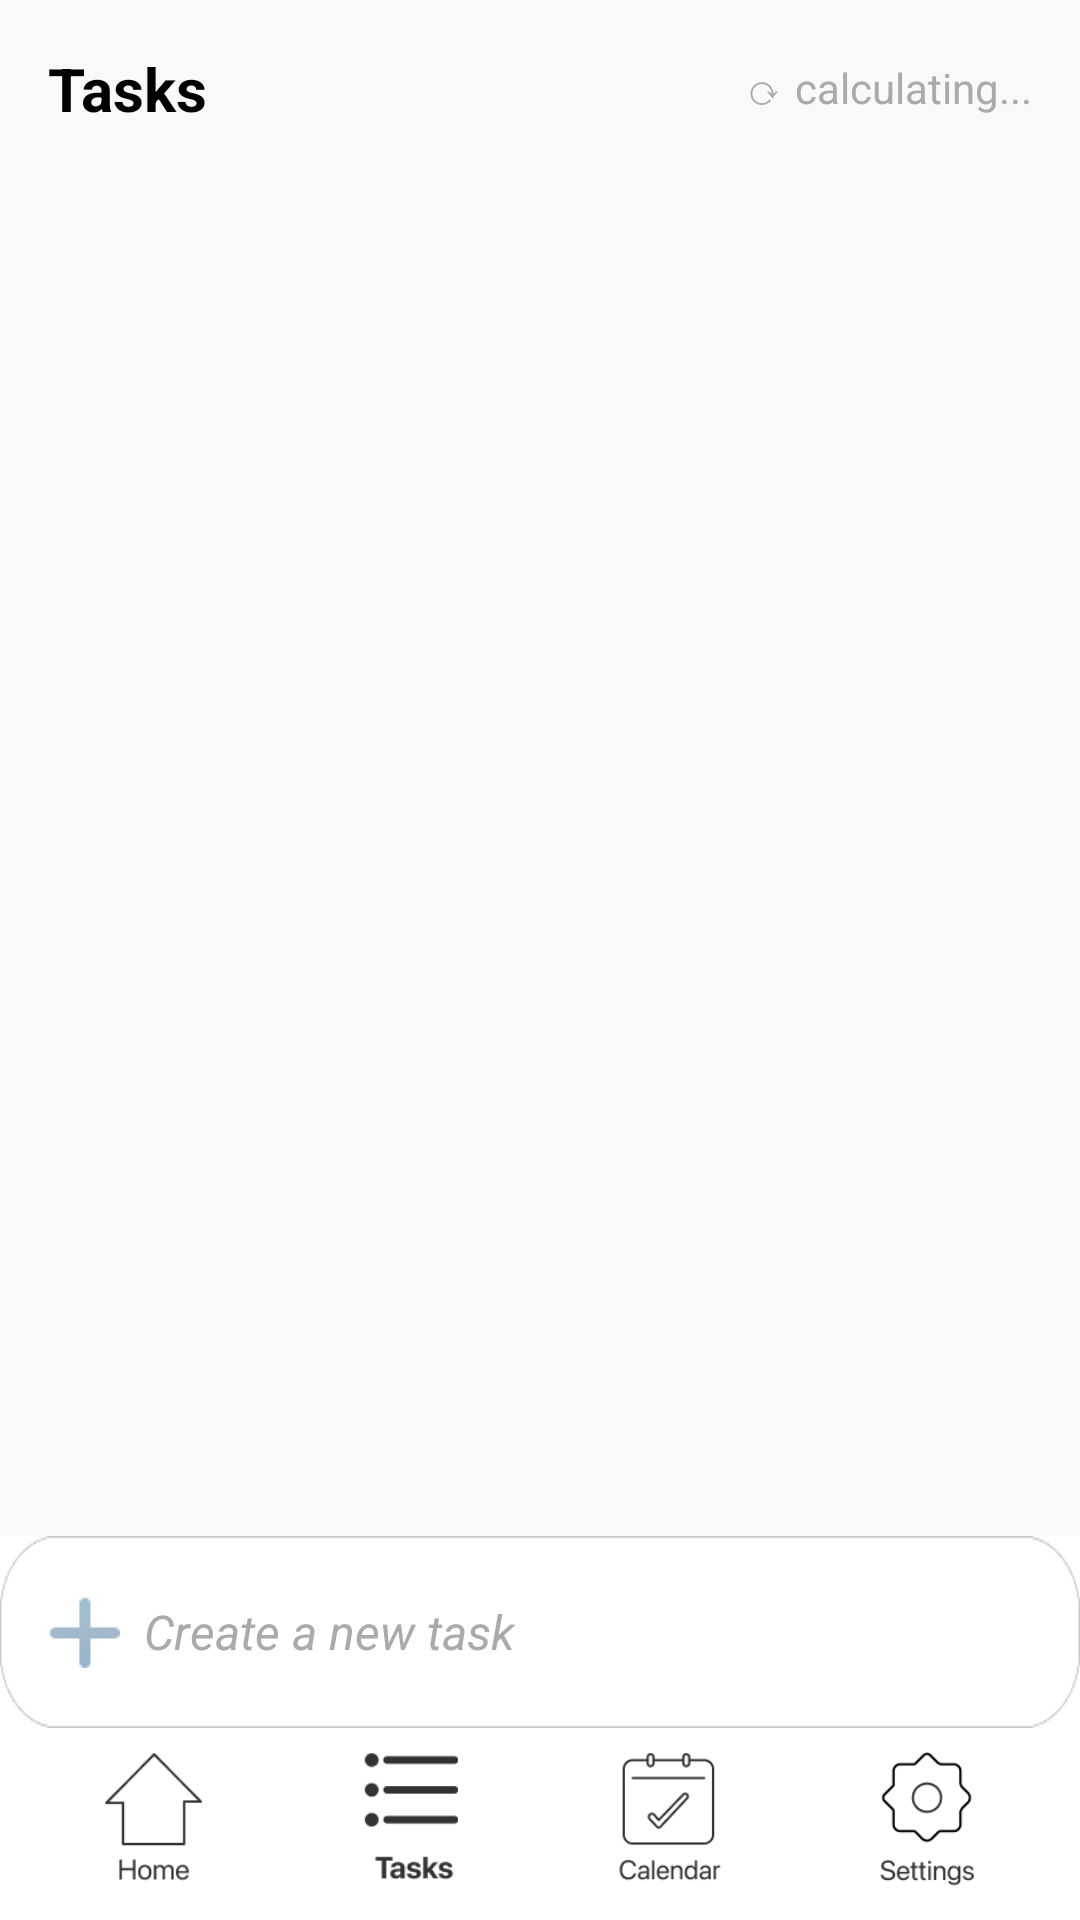

Point at icon controls on the screen. Image size 1080px×1920px, points as (x,y).
Add Task: (84,1632)
